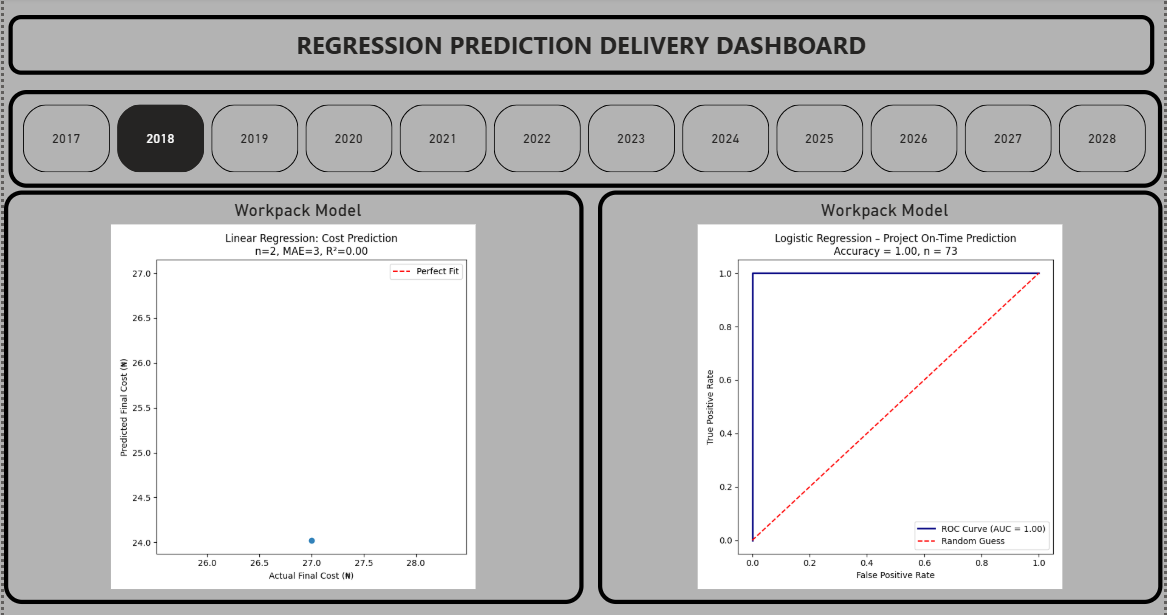

The dashboard page shown, as its layout file describes it:
{"tool":"powerbi","page":{"name":"Regression Model","canvas":[1280,720],"ordinal":2},"visuals":[{"type":"pythonVisual","title":"Workpack Model","fields":{"Values":["SC Plans.Original Duration","SC Plans.CTO.PG.Workpack Number","SC Plans.Year of Month","SC Plans.Final Cost","SC Plans.Actual_Duration"]},"box":[0,213.8,639.8,456.5],"z":0},{"type":"advancedSlicerVisual","fields":{"Values":["SC Plans.Finish.Variation.Date Hierarchy.Year"]},"box":[5,102.7,1273.8,107.7],"z":1000},{"type":"pythonVisual","title":"Workpack Model","fields":{"Values":["SC Plans.Original Duration","SC Plans.CTO.PG.Workpack Number","Sum(SC Plans.Final_Cost)","SC Plans.Year of Month","SC Plans.Actual_Duration"]},"box":[655.9,213.8,623.6,456.5],"z":2000},{"type":"textbox","box":[5,19.9,1265.6,66.3],"z":2001}]}

Visuals, with their boxes on the page's 1280x720 design canvas (x1, y1, x2, y2). These are canvas units, not pixel positions in the 1167x615 screenshot, which may show the page scaled, cropped or inside an application window:
"Workpack Model" pythonVisual: (0, 214, 640, 670)
advancedSlicerVisual - SC Plans.Finish.Variation.Date Hierarchy.Year: (5, 103, 1279, 210)
"Workpack Model" pythonVisual: (656, 214, 1280, 670)
textbox: (5, 20, 1271, 86)
